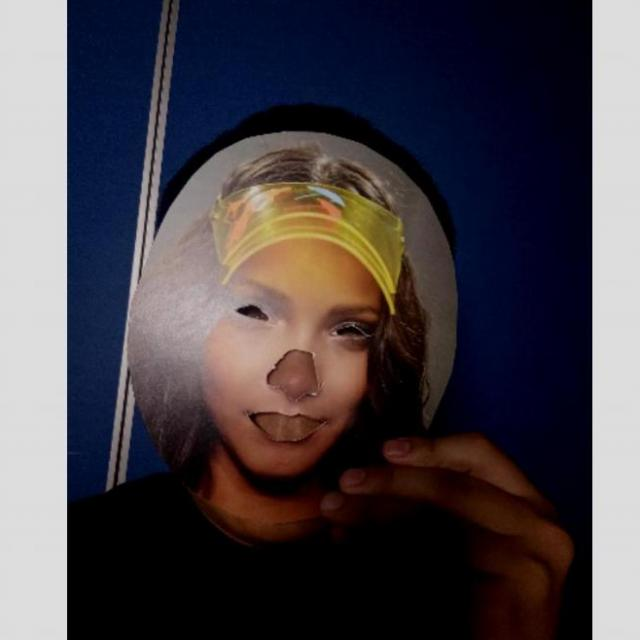mask: (124, 131, 464, 544)
